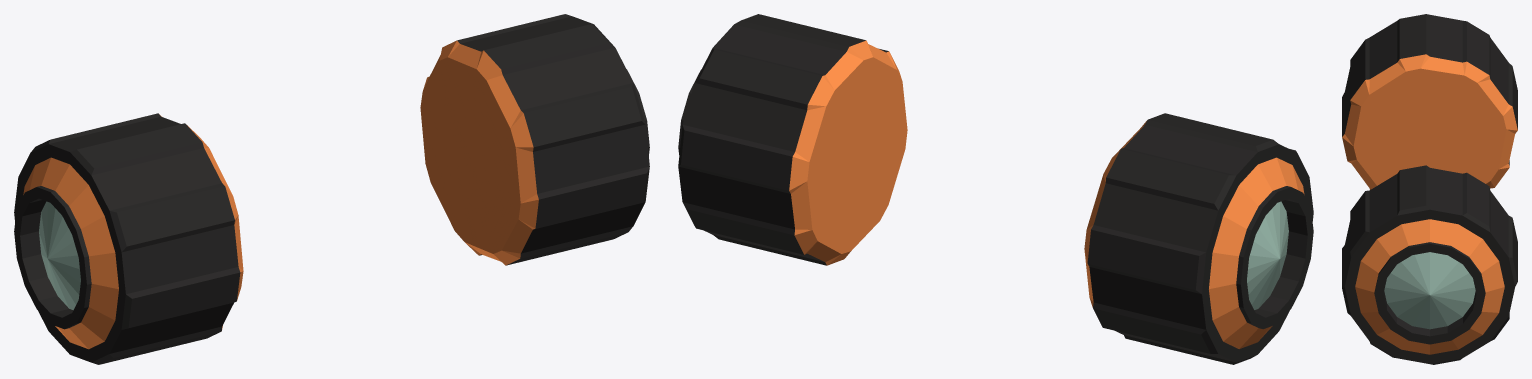
The model's file is TruckWheels.fbx.
3 renders of one model, left to right at view 1: azimuth 30°, elevation 25°; view 2: azimuth 150°, elevation 25°; view 3: azimuth 270°, elevation 25°, orthographic. The views are drawn at different scales.
Visible parts, largest first — view 1: TruckWheels_F_LOD0; view 2: TruckWheels_F_LOD0; view 3: TruckWheels_F_LOD0.
Boxes of the visible parts, x1,y1,x2,y2 form: TruckWheels_F_LOD0: [14, 14, 649, 364]; TruckWheels_F_LOD0: [678, 14, 1313, 364]; TruckWheels_F_LOD0: [1342, 14, 1517, 364].
Size of what is drawn, in the model's own units: 1099 by 386 by 386.
